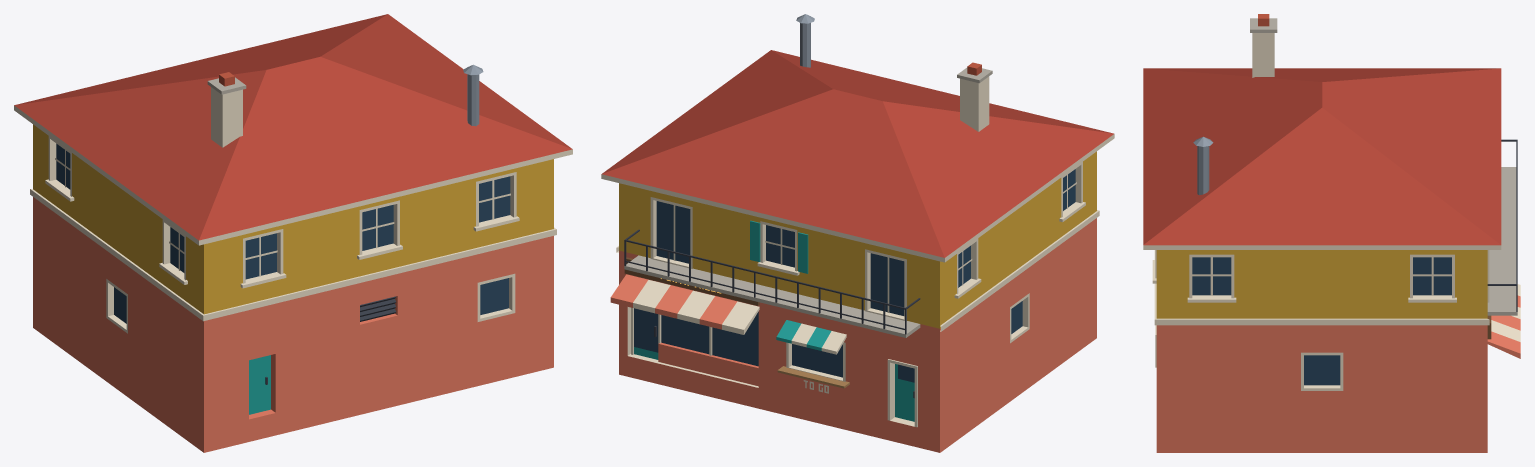
File: storefront_e.glb
3 renders of one model, left to right at view 1: azimuth 30°, elevation 25°; view 2: azimuth 150°, elevation 25°; view 3: azimuth 270°, elevation 25°, orthographic. The views are drawn at different scales.
Parts seen in each view (by area): view 1: Building, Building_Glass; view 2: Building, Building_Glass, Building_Detail; view 3: Building, Building_Glass, Building_Detail.
Part boxes in pixels (x1=…): Building: x1=14, y1=14, x2=572, y2=452; Building_Glass: x1=56, y1=143, x2=510, y2=323; Building: x1=601, y1=14, x2=1114, y2=452; Building_Glass: x1=634, y1=169, x2=1075, y2=382; Building_Detail: x1=610, y1=257, x2=914, y2=398; Building: x1=1143, y1=14, x2=1517, y2=452; Building_Glass: x1=1192, y1=257, x2=1451, y2=385; Building_Detail: x1=1487, y1=284, x2=1520, y2=358.
Size of the model in its own units: 13.9 by 11.3 by 12.55.
